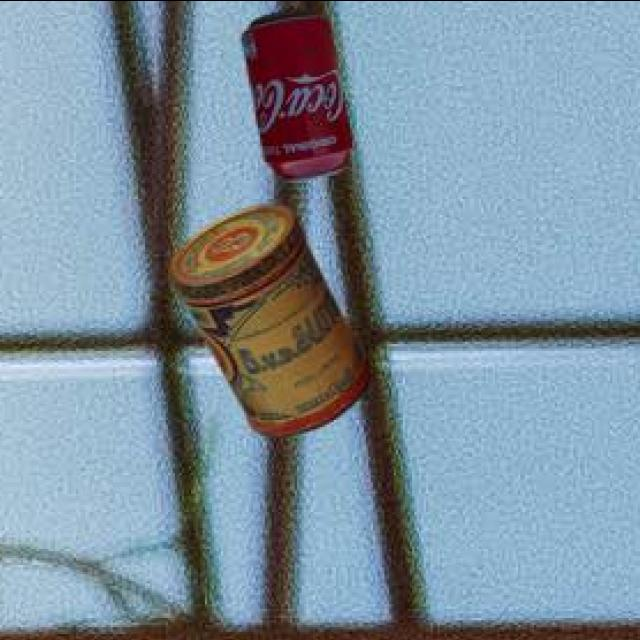logam: (174, 201, 374, 432), (245, 6, 356, 178)
